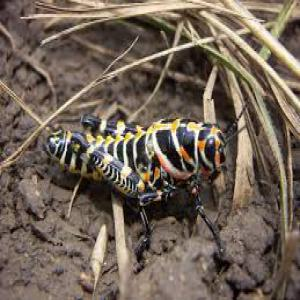locust: (39, 97, 257, 211)
